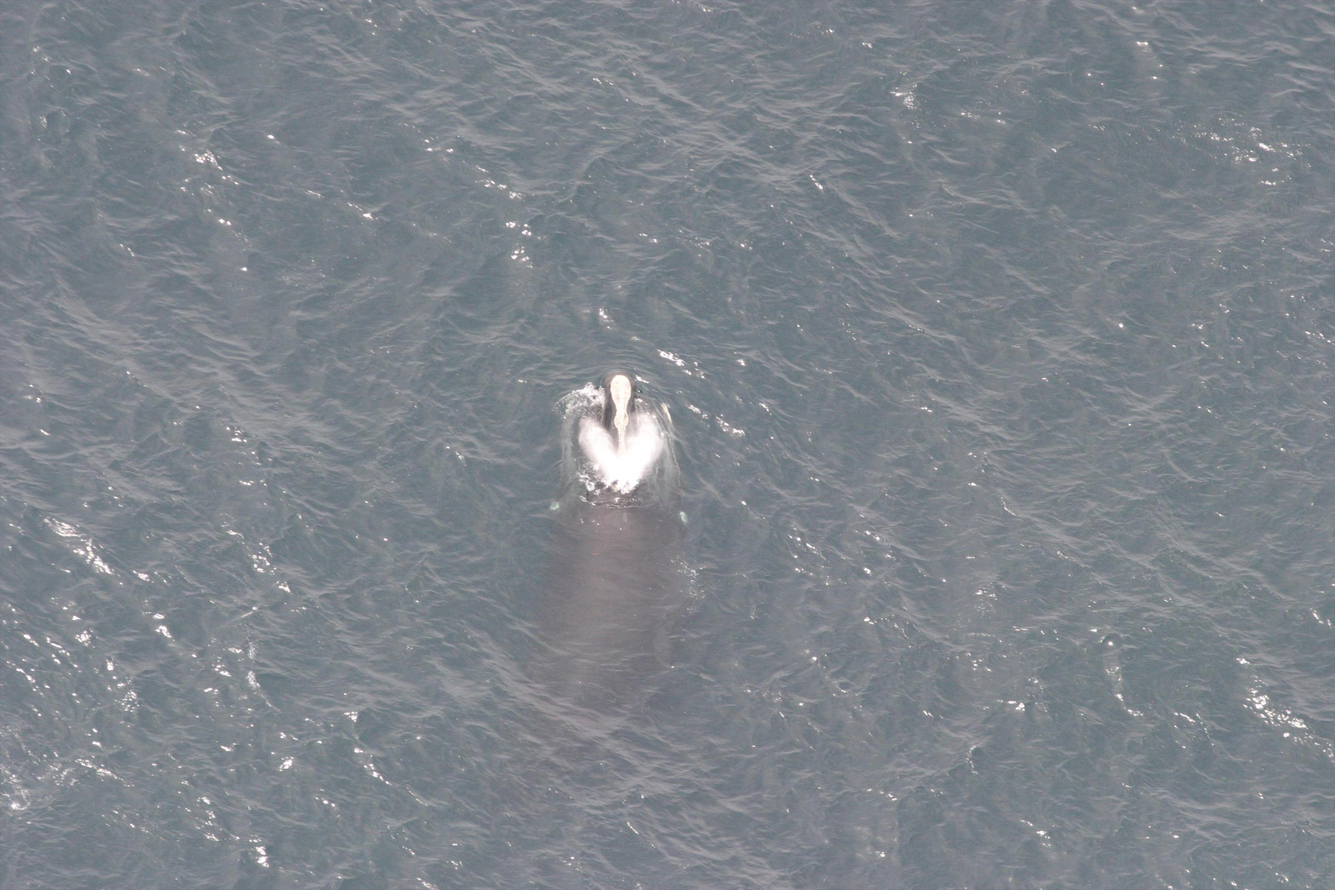whale: (494, 357, 729, 778)
